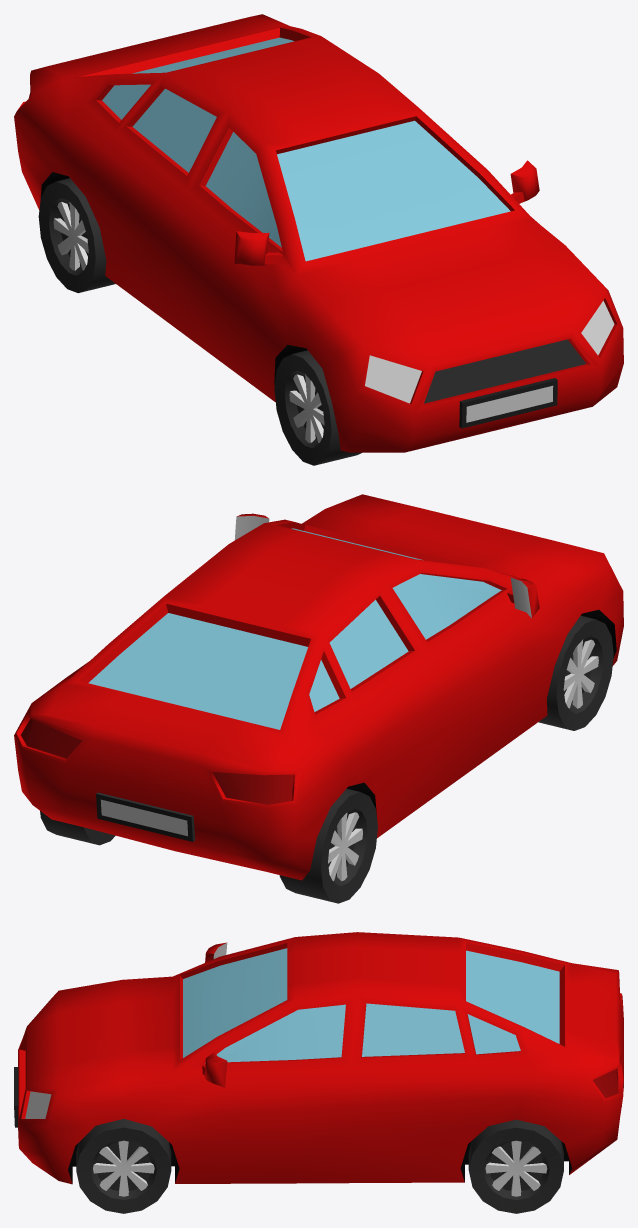
3 renders of one model, top to bottom at view 1: azimuth 30°, elevation 25°; view 2: azimuth 150°, elevation 25°; view 3: azimuth 270°, elevation 25°, orthographic. The views are drawn at different scales.
Parts seen in each view (by area): view 1: Car_Sedan_0; view 2: Car_Sedan_0; view 3: Car_Sedan_0.
Part boxes in pixels (box(x1,y1,x2,y2)): Car_Sedan_0: box(14, 14, 623, 465); Car_Sedan_0: box(14, 494, 623, 903); Car_Sedan_0: box(14, 932, 623, 1213).
Bounding box in the file's own units: 1.78 × 1.32 × 3.77.
